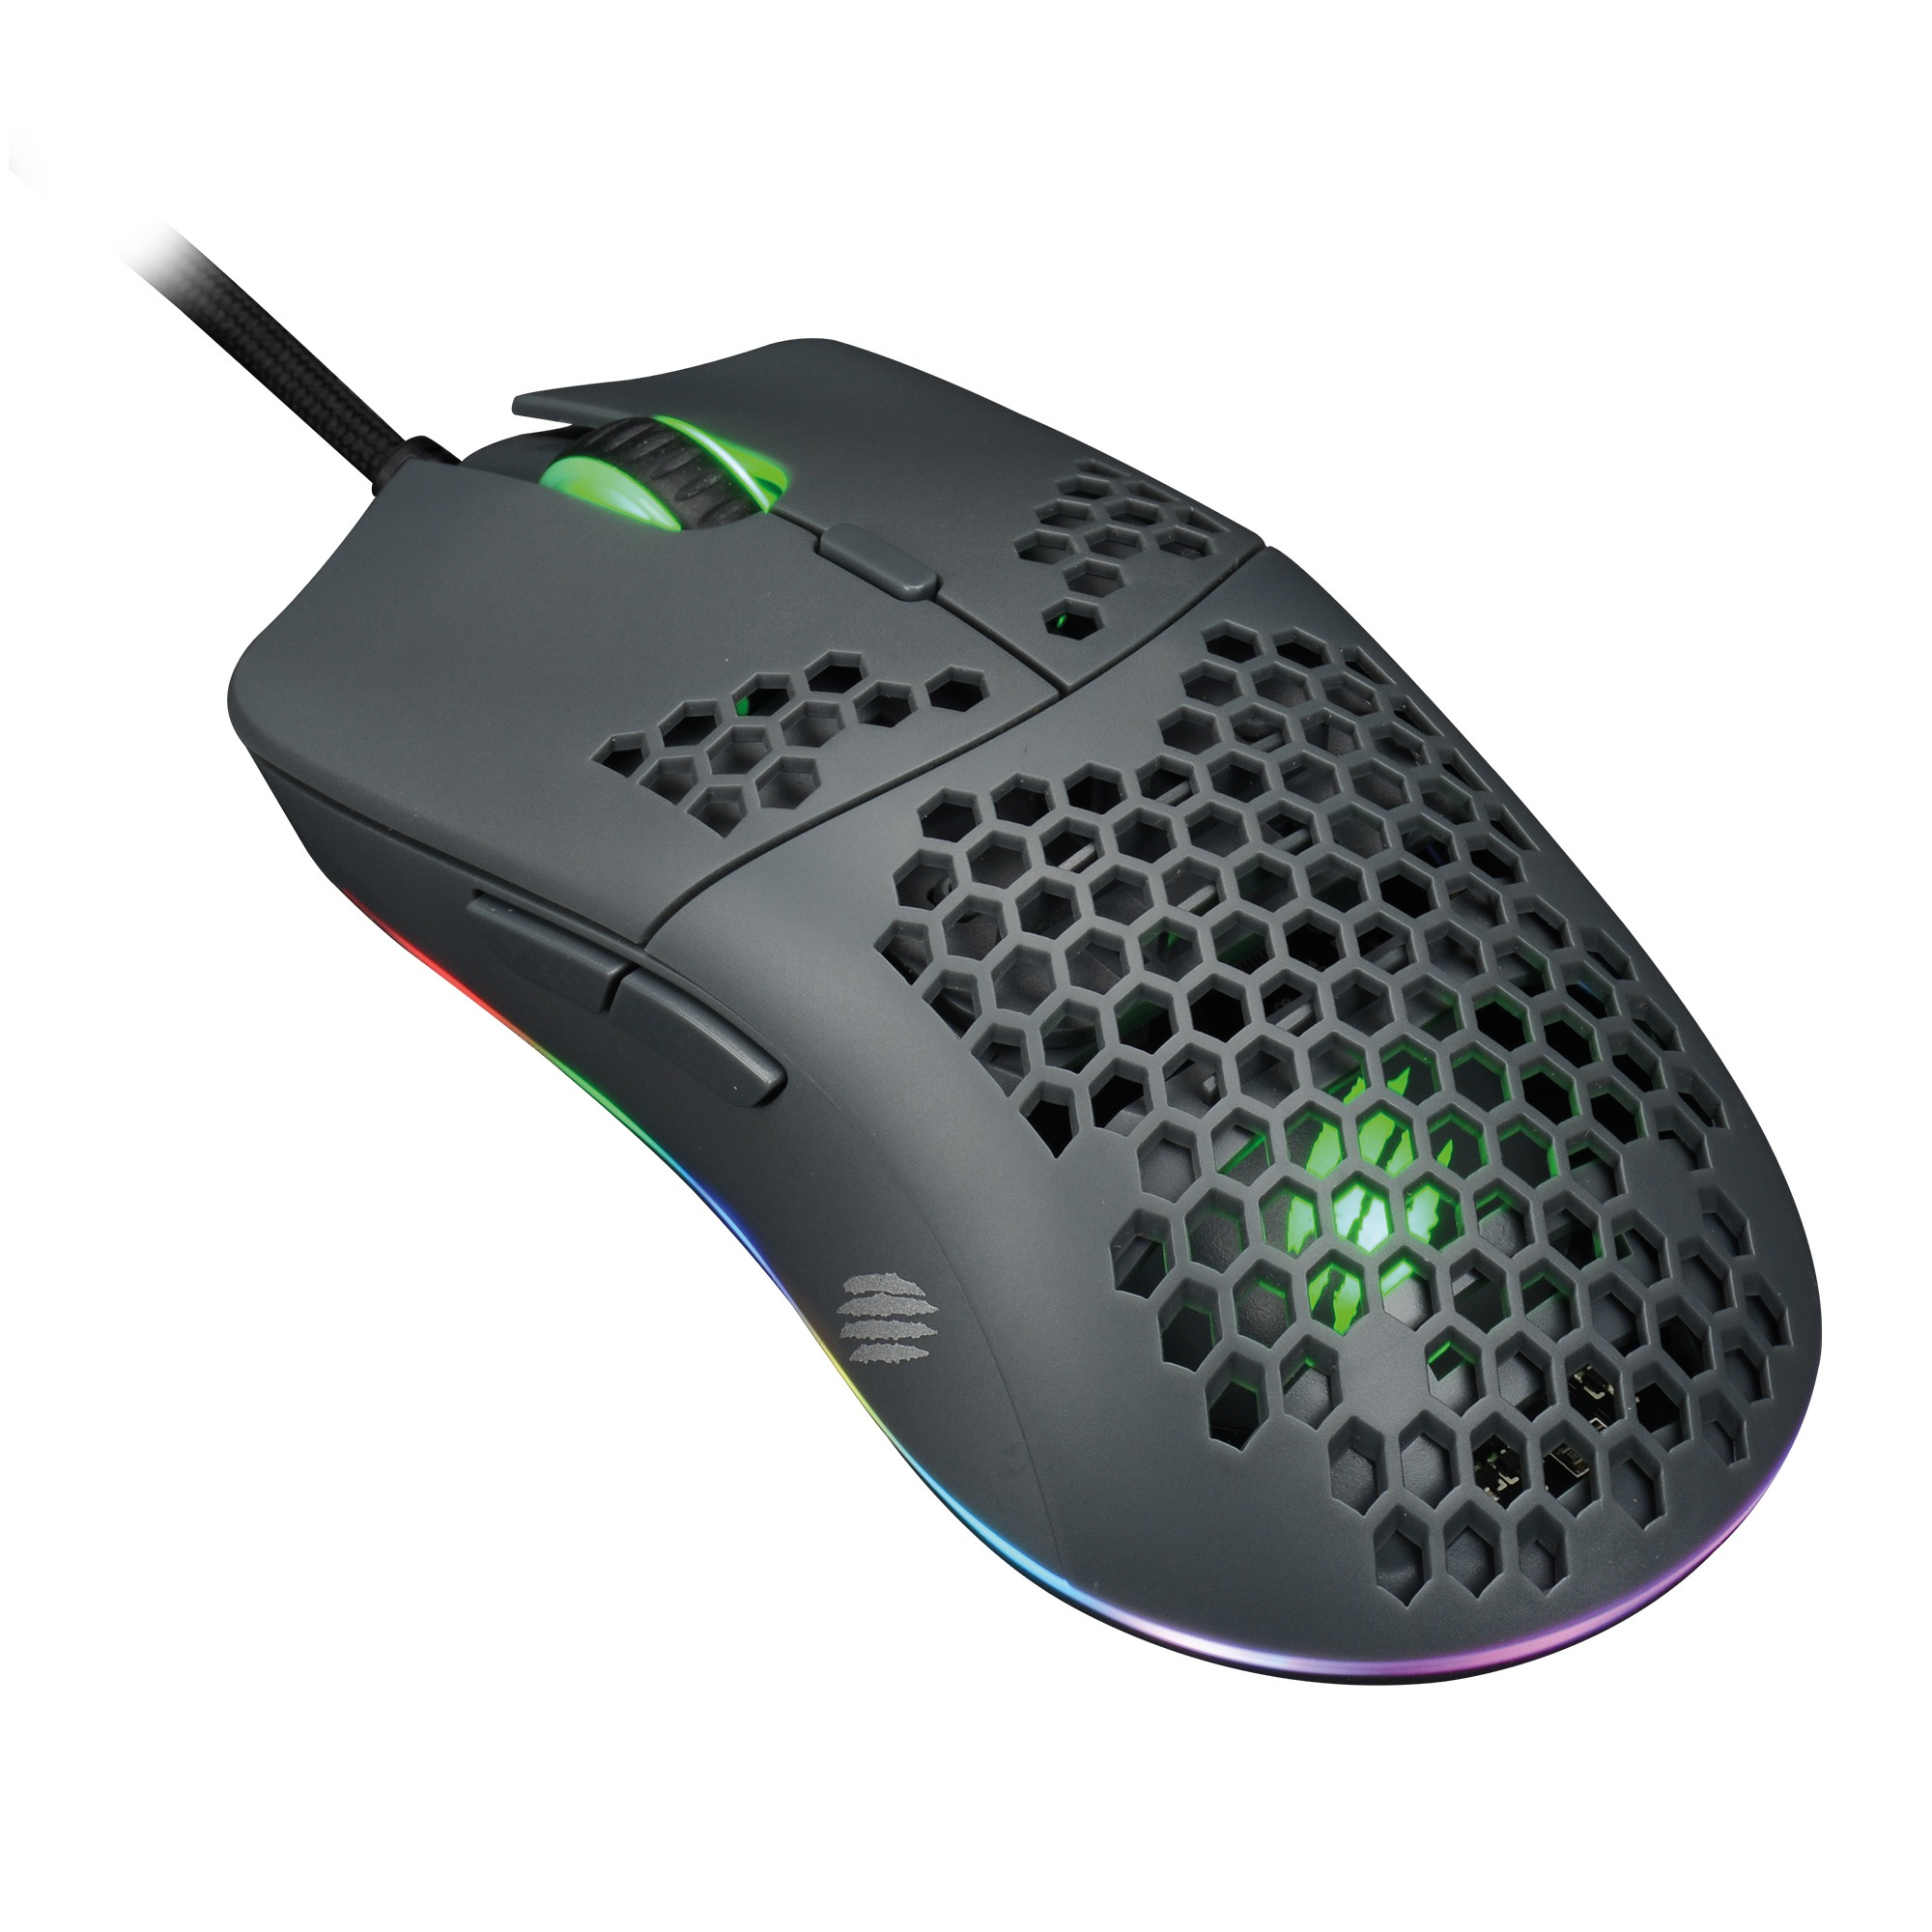mouse: (205, 274, 1845, 1759)
